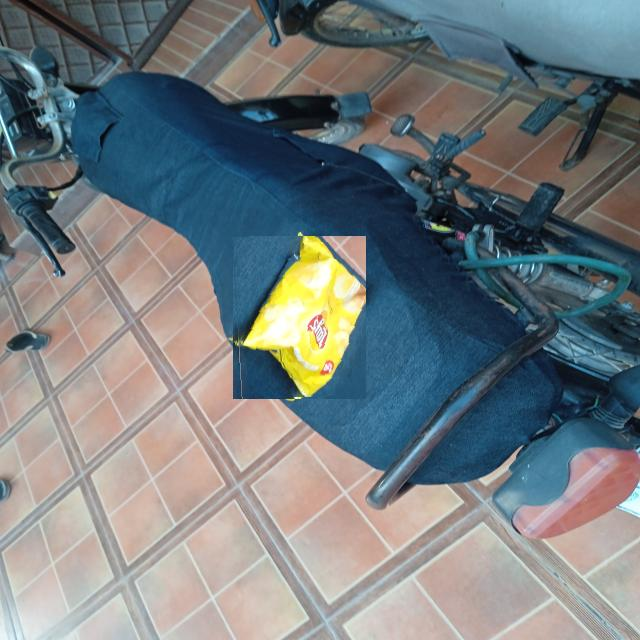Plastic: (232, 236, 366, 399)
